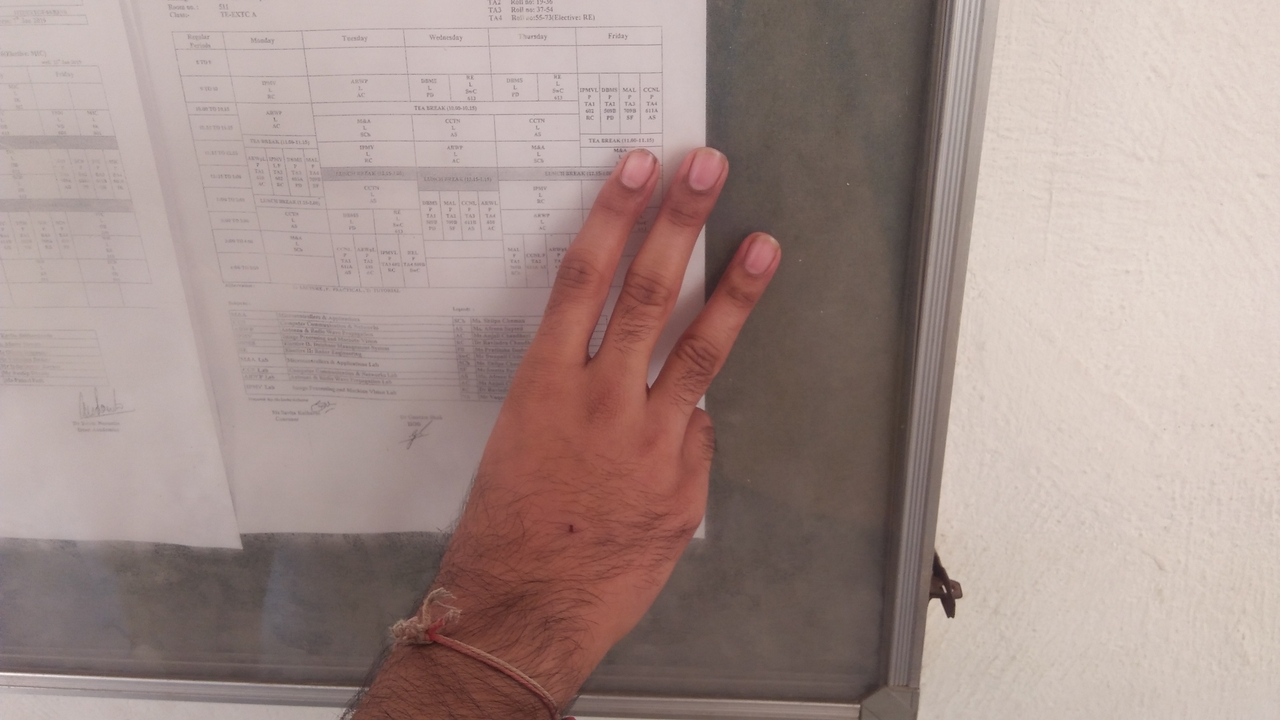fingertip: (666, 138, 740, 200), (724, 220, 790, 284), (598, 140, 666, 198)
